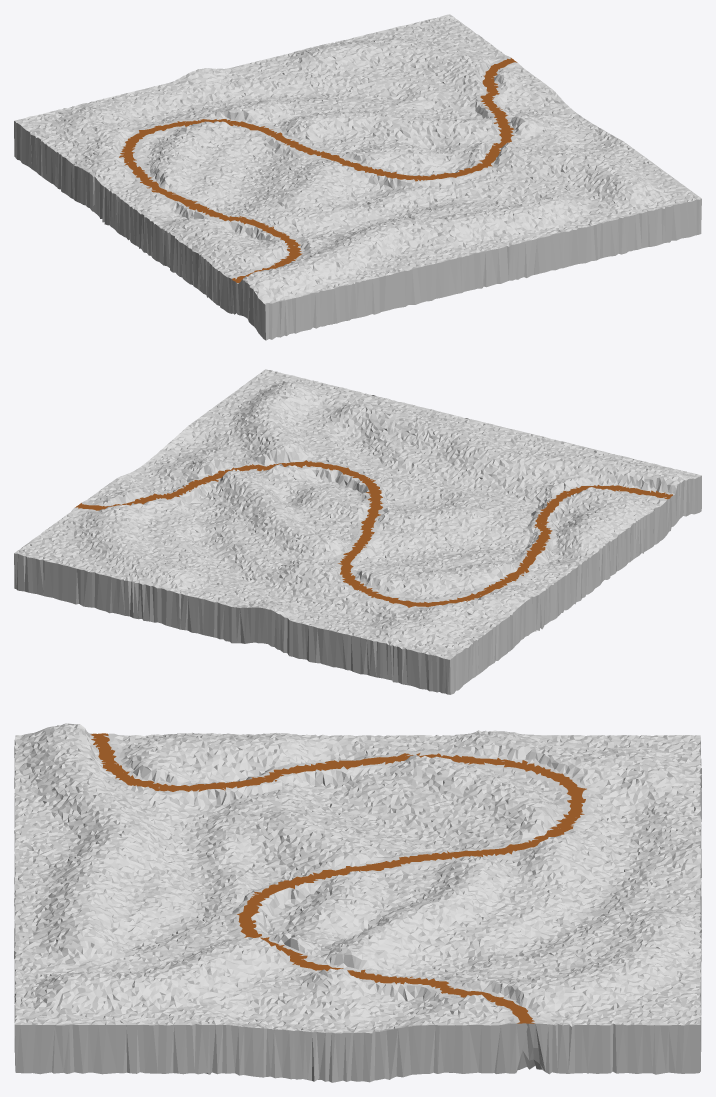
The model's file is mapWinter.fbx.
The picture shows the model from 3 angles, top to bottom: view 1: azimuth 30°, elevation 25°; view 2: azimuth 150°, elevation 25°; view 3: azimuth 270°, elevation 25°; orthographic projection. The views are drawn at different scales.
Parts seen in each view (by area): view 1: Plane.002; view 2: Plane.002; view 3: Plane.002.
Part boxes in pixels (x1,y1,x2,y2): Plane.002: [14, 14, 701, 340]; Plane.002: [14, 369, 701, 694]; Plane.002: [14, 723, 701, 1082].
Bounding box in the file's own units: 24097 × 3010 × 24080.
